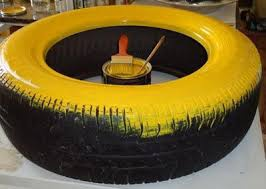tire: (1, 6, 262, 184)
